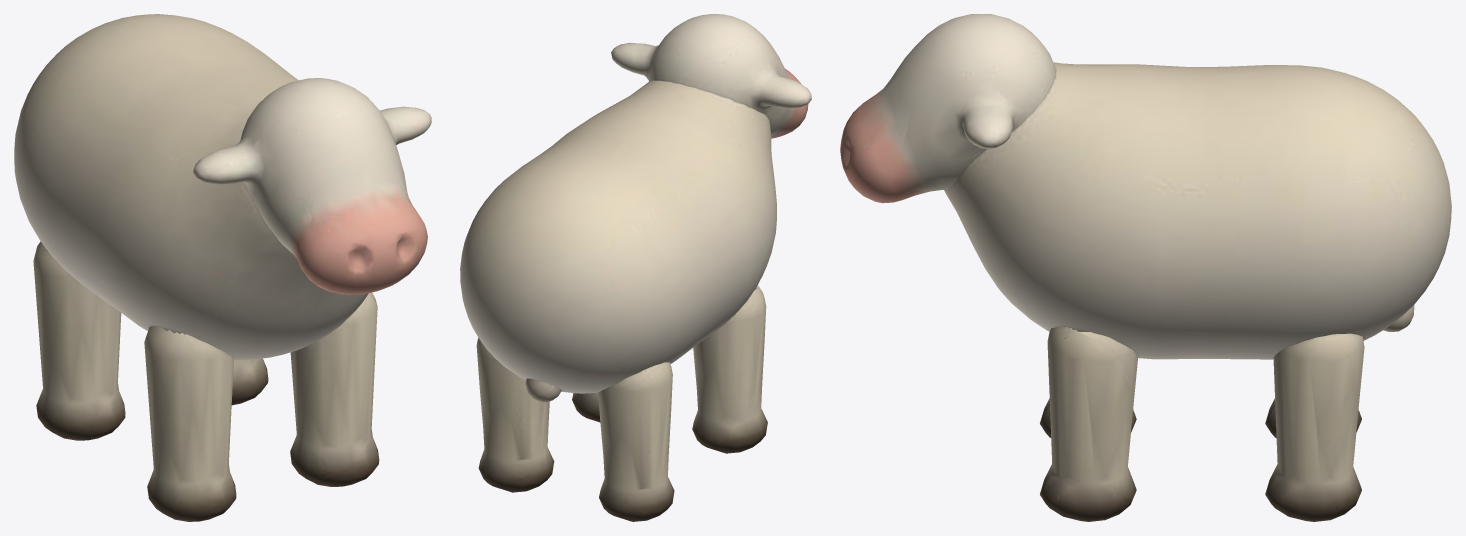
Rendered from animal_charolais.glb.
3 views of the same model, side by side, from view 1: azimuth 30°, elevation 25°; view 2: azimuth 150°, elevation 25°; view 3: azimuth 270°, elevation 25° (orthographic). The views are drawn at different scales.
Visible parts, largest first — view 1: animal_charolais, head, leg0, leg2, leg1, leg3; view 2: animal_charolais, head, leg2, leg0, leg3, leg1, tail; view 3: animal_charolais, head, leg1, leg3.
Boxes of the visible parts, left/top/right/bottom form: animal_charolais: left=14, top=14, right=368, bottom=359; head: left=193, top=78, right=431, bottom=294; leg0: left=144, top=326, right=236, bottom=521; leg2: left=33, top=241, right=125, bottom=440; leg1: left=290, top=292, right=379, bottom=486; leg3: left=231, top=358, right=268, bottom=405; animal_charolais: left=460, top=80, right=776, bottom=393; head: left=611, top=14, right=811, bottom=138; leg2: left=598, top=362, right=674, bottom=521; leg0: left=692, top=285, right=767, bottom=453; leg3: left=476, top=338, right=554, bottom=492; leg1: left=572, top=392, right=600, bottom=422; tail: left=525, top=378, right=561, bottom=402; animal_charolais: left=944, top=62, right=1451, bottom=359; head: left=840, top=14, right=1056, bottom=203; leg1: left=1040, top=326, right=1138, bottom=521; leg3: left=1265, top=333, right=1364, bottom=521.
Bounding box in the file's own units: 0.328 × 0.5398 × 0.6514.
1 material, 1 textured.
